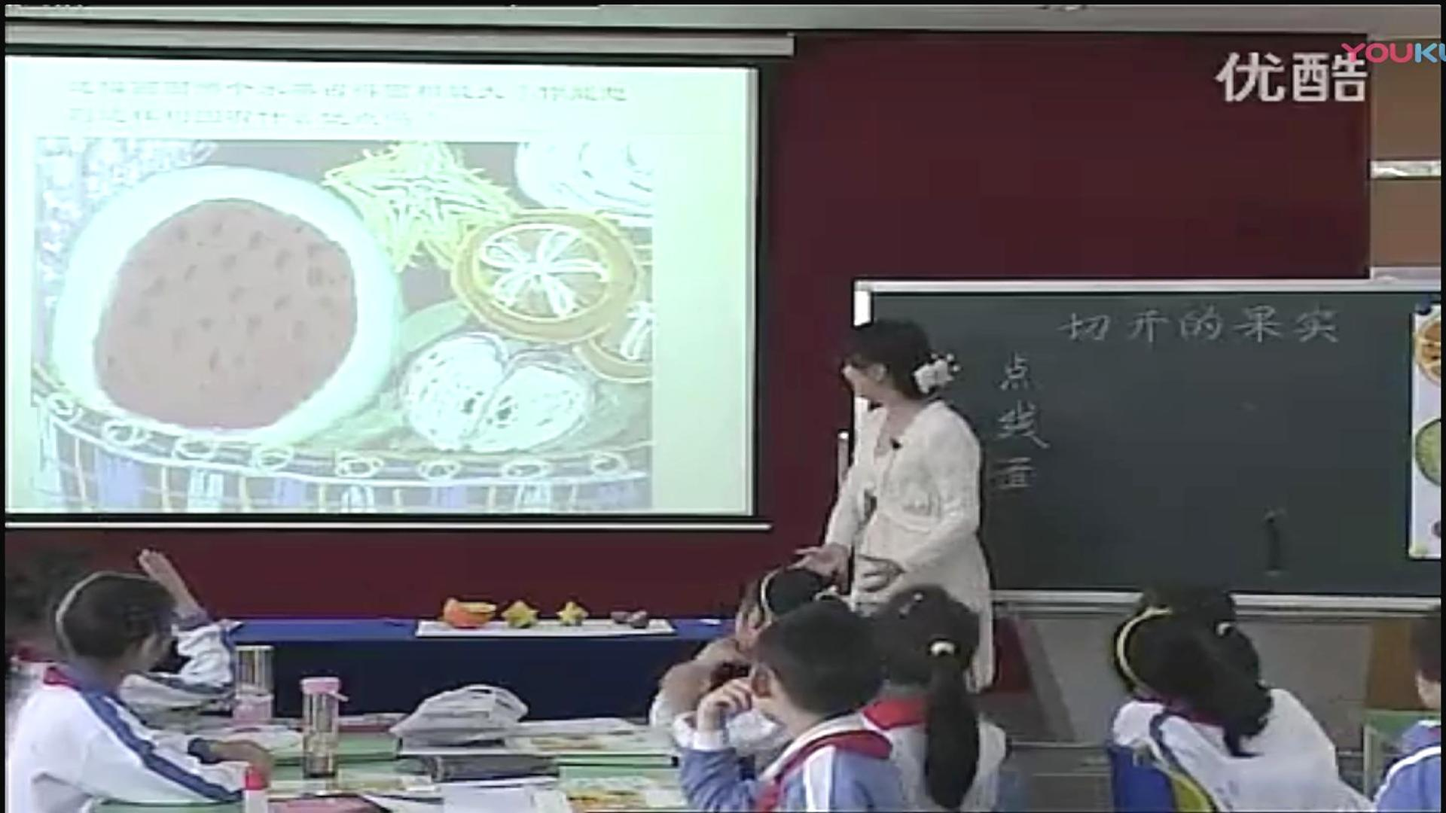Stand Up: (834, 325, 1019, 600)
Wave: (171, 539, 226, 687)
